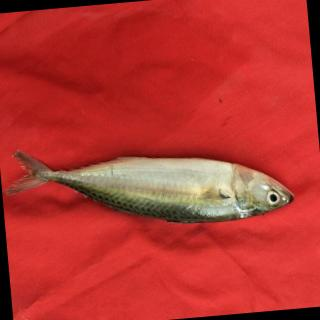Ikan: (2, 104, 306, 255)
